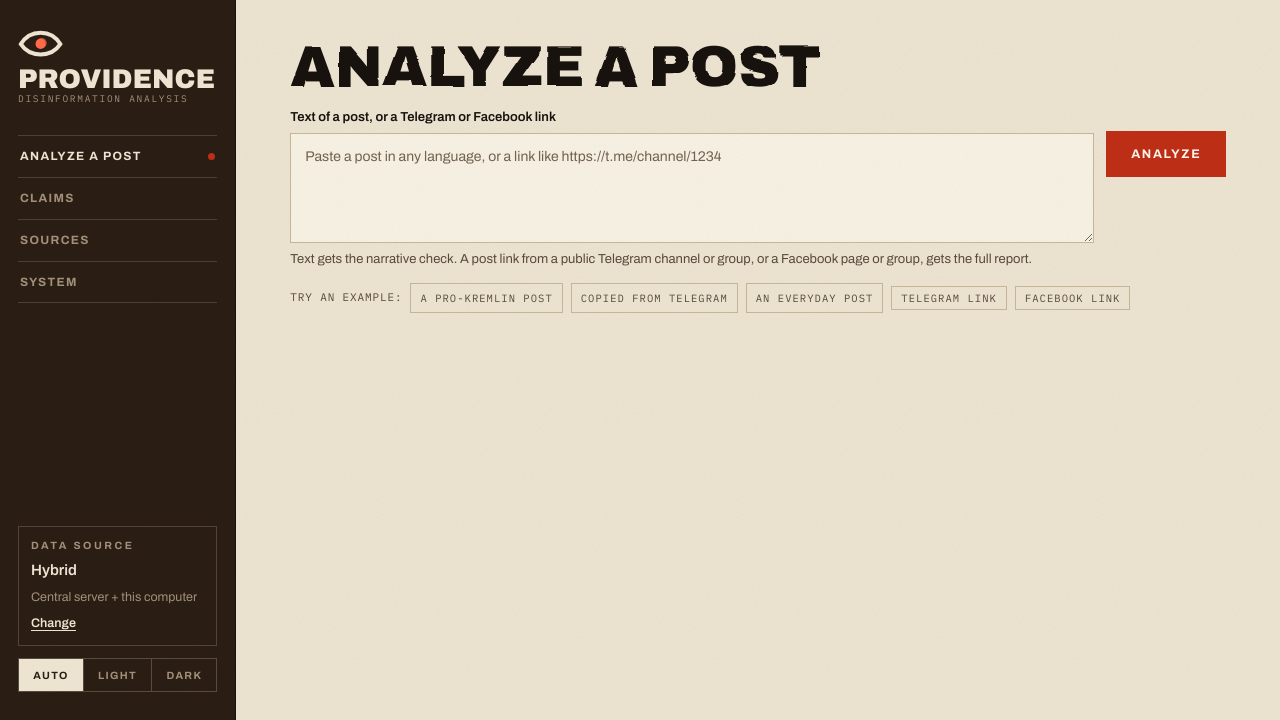
Analyze a link (demo data) › an empty link is rejected too
Click the button "Analyze": (1166, 154) [1106,131,1226,177]
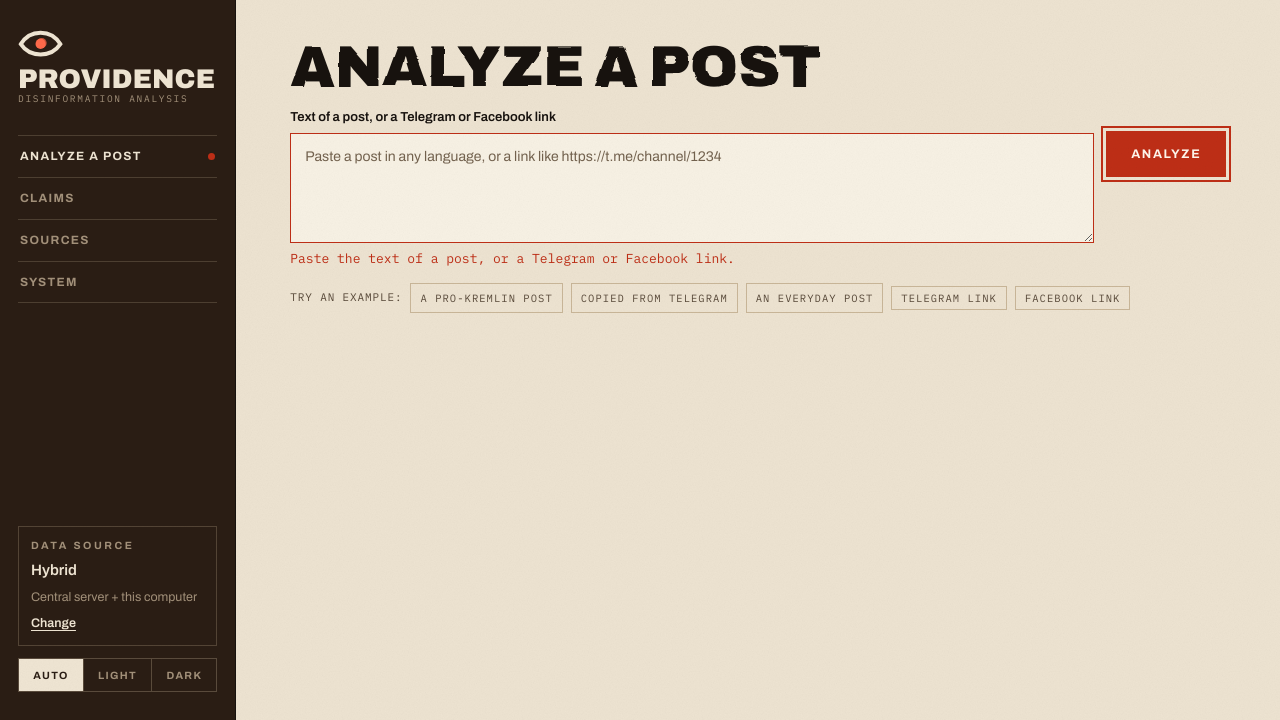
Expected: the message "Paste the text of a post, or a Telegram or Facebook link." is shown, [290,250,735,267]
